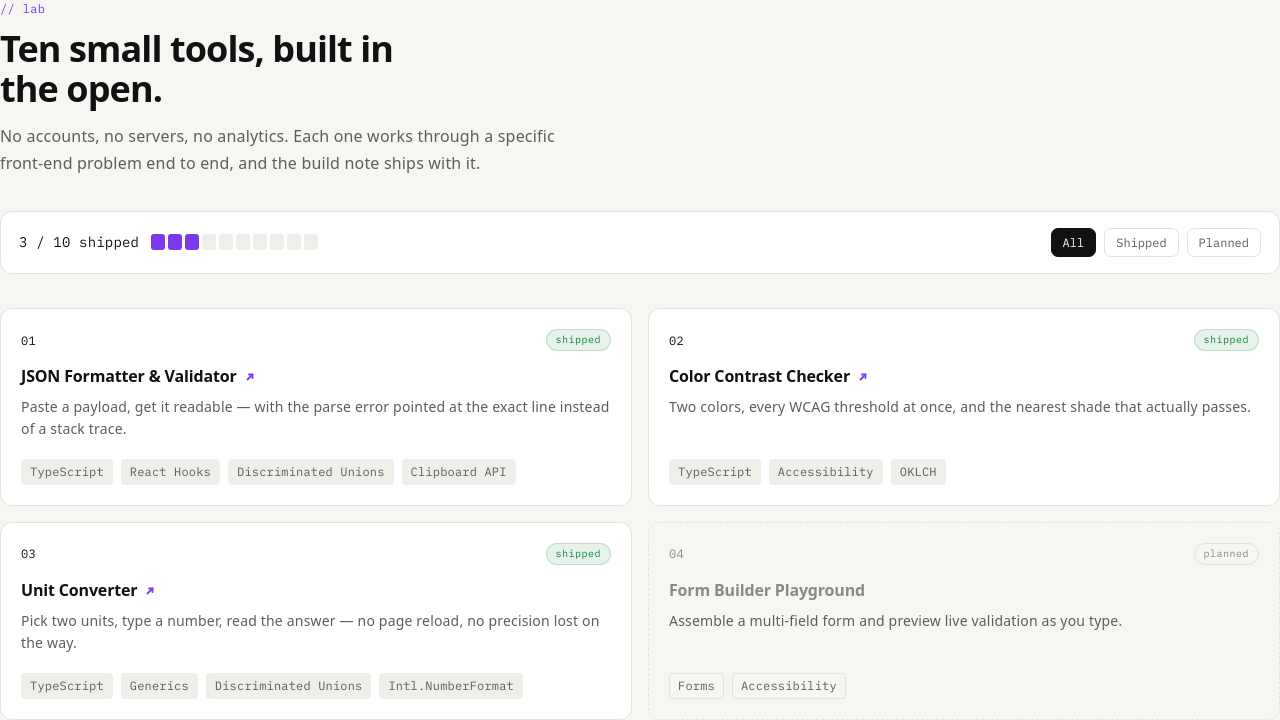
Test: LabHome › filters to only shipped tools
Click the tab "Shipped" at [1141, 242], box 1104,228 -> 1179,257
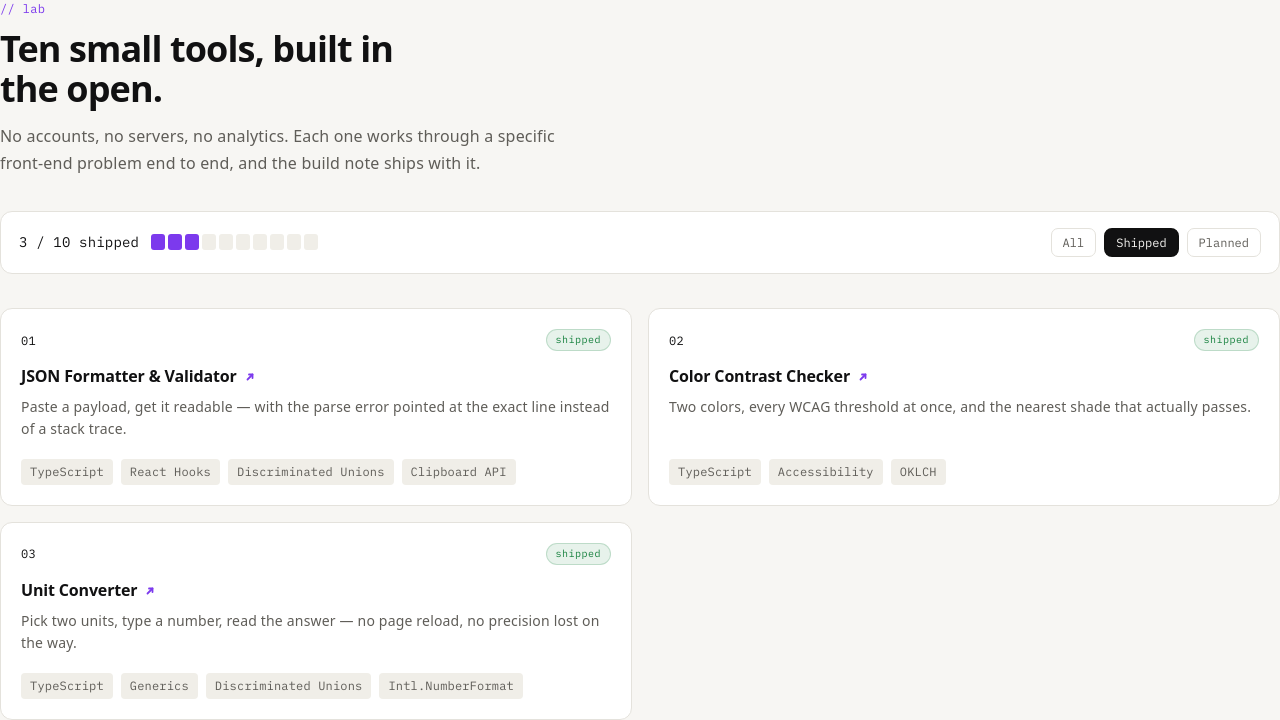
Expected: the text "JSON Formatter & Validator" is shown, 21,366 -> 256,388
Expected: the text "Form Builder Playground" is gone
